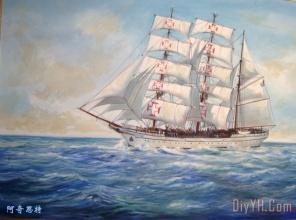fanchuan: (80, 4, 278, 153)
